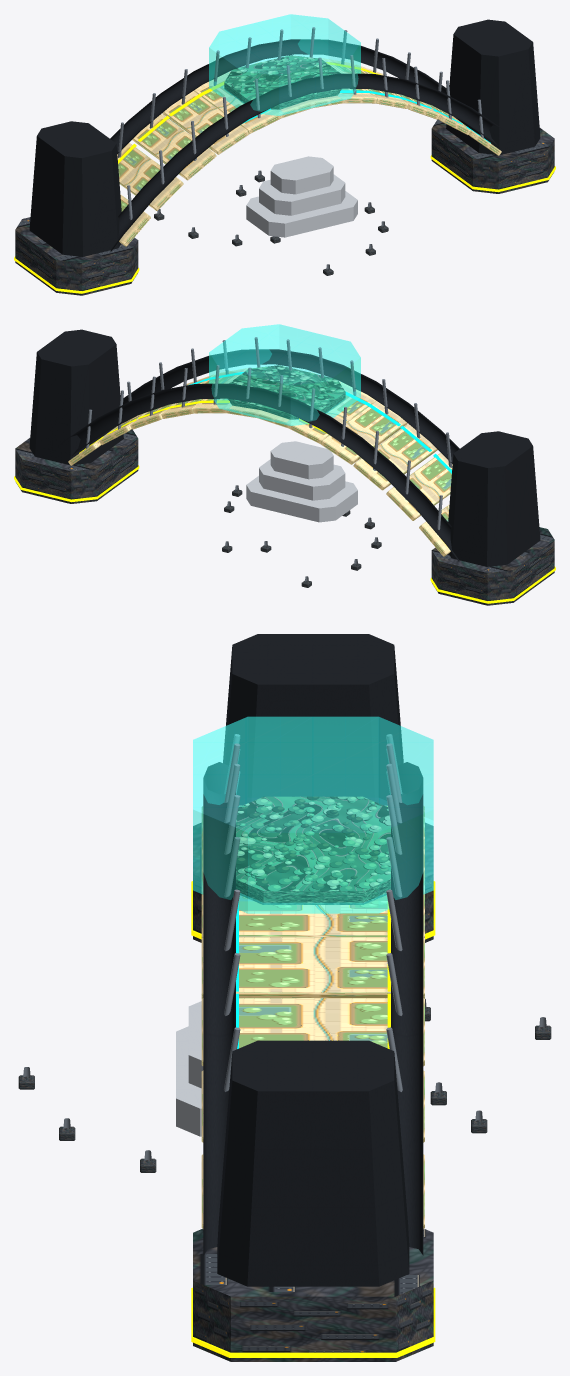
Rendered from interior_setpiece_01_r1_04.glb.
3 views of the same model, one above another, from view 1: azimuth 30°, elevation 25°; view 2: azimuth 150°, elevation 25°; view 3: azimuth 270°, elevation 25° (orthographic). The views are drawn at different scales.
Visible parts, largest first — view 1: Setpiece01_C04_gunmetal, Setpiece01_C04_glass_emerald, Setpiece01_C04_cliff_basalt, Setpiece01_C04_promenade_paving, Setpiece01_C04_aero_white, Setpiece01_C04_biome_canopy, Setpiece01_C04_steel_machined, Setpiece01_C04_led_amber, Setpiece01_C04_led_cyan; view 2: Setpiece01_C04_gunmetal, Setpiece01_C04_glass_emerald, Setpiece01_C04_cliff_basalt, Setpiece01_C04_promenade_paving, Setpiece01_C04_aero_white, Setpiece01_C04_biome_canopy, Setpiece01_C04_steel_machined, Setpiece01_C04_led_amber, Setpiece01_C04_led_cyan; view 3: Setpiece01_C04_gunmetal, Setpiece01_C04_glass_emerald, Setpiece01_C04_promenade_paving, Setpiece01_C04_cliff_basalt, Setpiece01_C04_biome_canopy, Setpiece01_C04_steel_machined, Setpiece01_C04_aero_white, Setpiece01_C04_led_amber.
Part boxes in pixels (bbox=[...]): Setpiece01_C04_gunmetal: bbox=[29, 19, 540, 256]; Setpiece01_C04_glass_emerald: bbox=[209, 14, 360, 115]; Setpiece01_C04_cliff_basalt: bbox=[15, 119, 554, 295]; Setpiece01_C04_promenade_paving: bbox=[117, 58, 501, 246]; Setpiece01_C04_aero_white: bbox=[246, 156, 357, 237]; Setpiece01_C04_biome_canopy: bbox=[224, 55, 341, 109]; Setpiece01_C04_steel_machined: bbox=[118, 27, 483, 269]; Setpiece01_C04_led_amber: bbox=[14, 62, 555, 293]; Setpiece01_C04_led_cyan: bbox=[242, 90, 490, 143]; Setpiece01_C04_gunmetal: bbox=[29, 329, 540, 566]; Setpiece01_C04_glass_emerald: bbox=[209, 324, 360, 425]; Setpiece01_C04_cliff_basalt: bbox=[15, 429, 554, 605]; Setpiece01_C04_promenade_paving: bbox=[68, 368, 452, 556]; Setpiece01_C04_aero_white: bbox=[246, 441, 357, 522]; Setpiece01_C04_biome_canopy: bbox=[228, 365, 345, 419]; Setpiece01_C04_steel_machined: bbox=[86, 337, 451, 581]; Setpiece01_C04_led_amber: bbox=[14, 400, 555, 603]; Setpiece01_C04_led_cyan: bbox=[188, 372, 451, 473]; Setpiece01_C04_gunmetal: bbox=[203, 634, 423, 1286]; Setpiece01_C04_glass_emerald: bbox=[193, 716, 433, 913]; Setpiece01_C04_promenade_paving: bbox=[201, 805, 424, 1228]; Setpiece01_C04_cliff_basalt: bbox=[18, 822, 551, 1361]; Setpiece01_C04_biome_canopy: bbox=[236, 796, 390, 904]; Setpiece01_C04_steel_machined: bbox=[23, 734, 546, 1160]; Setpiece01_C04_aero_white: bbox=[176, 1001, 203, 1136]; Setpiece01_C04_led_amber: bbox=[191, 806, 435, 1357].
Size of the model in its own units: 67.2 by 22.1 by 30.99.
9 materials, 9 textured.
